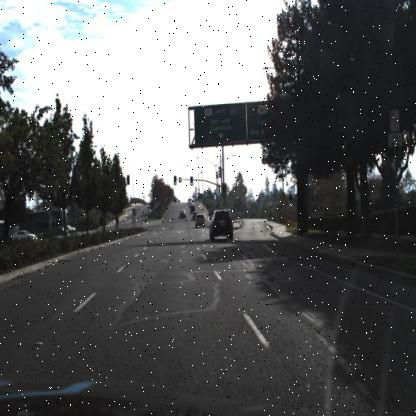car: (210, 210, 234, 240), (11, 230, 37, 242), (193, 210, 206, 232), (49, 225, 67, 237), (195, 213, 205, 227), (67, 224, 76, 234), (179, 209, 187, 218), (192, 210, 196, 222)
trafficLight-Green: (221, 183, 226, 197), (172, 174, 176, 186), (190, 175, 193, 186)
truck: (20, 210, 68, 232)
